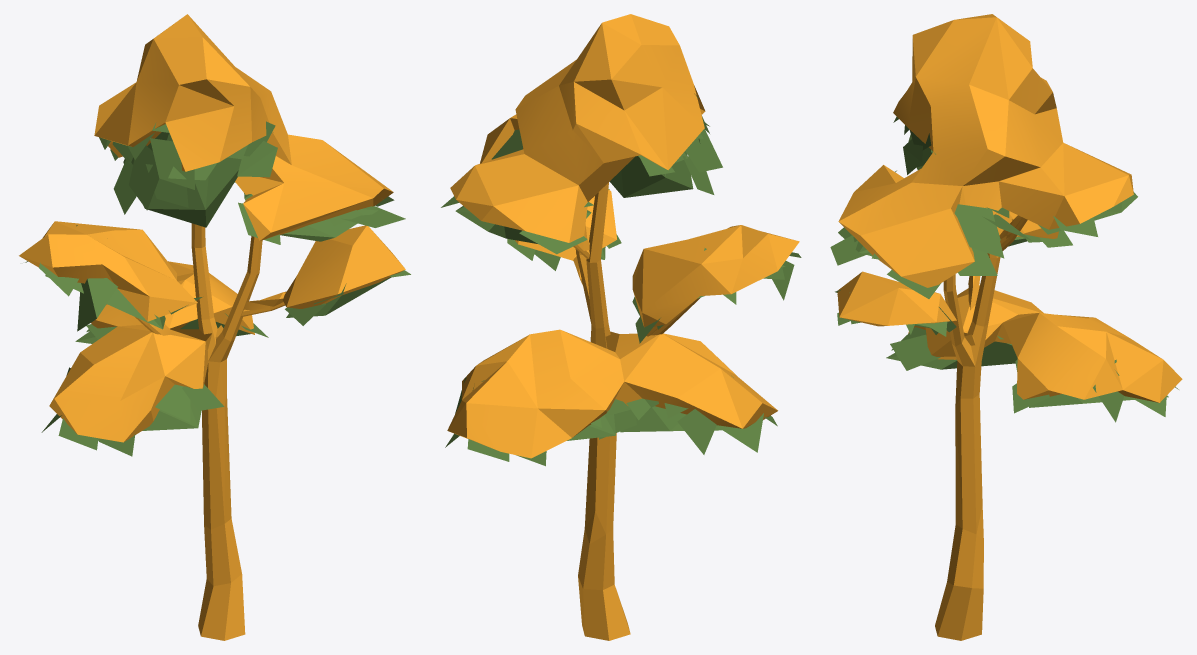
The model's file is SM_Tree_Oak_Sapling_A_Snow.fbx.
The picture shows the model from 3 angles, left to right: view 1: azimuth 30°, elevation 25°; view 2: azimuth 150°, elevation 25°; view 3: azimuth 270°, elevation 25°; orthographic projection. The views are drawn at different scales.
Parts seen in each view (by area): view 1: tree-oak-sapling-a-snow; view 2: tree-oak-sapling-a-snow; view 3: tree-oak-sapling-a-snow.
Part boxes in pixels (x1,y1,x2,y2): tree-oak-sapling-a-snow: (19, 14, 410, 640); tree-oak-sapling-a-snow: (441, 14, 801, 640); tree-oak-sapling-a-snow: (830, 14, 1182, 640).
Bounding box in the file's own units: 1.34 × 2.32 × 1.22.
